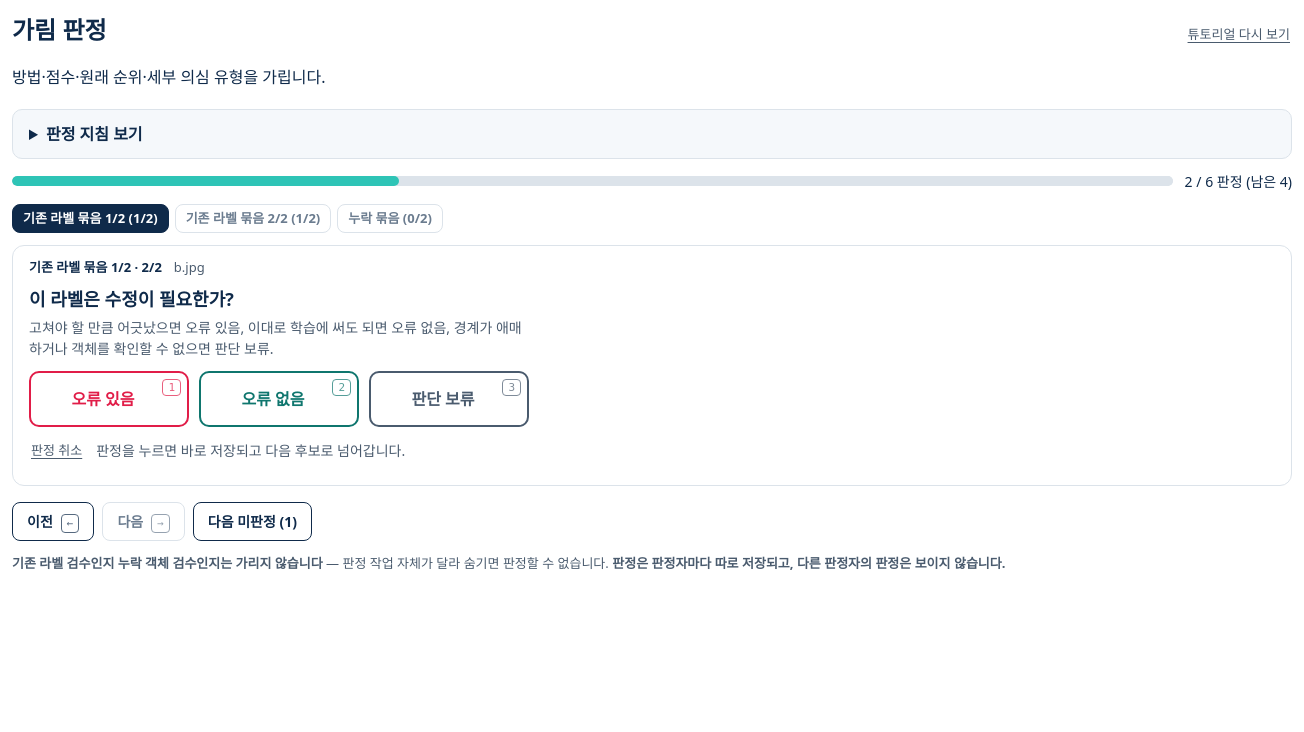
묶음 경계 › 묶음 완료 화면에서 다음 묶음을 시작하면 그 묶음의 첫 미판정으로 간다
The width and height of the screenshot is (1304, 732).
Check: the text "b.jpg" is shown, box [174,258,205,278]
Click the button "판단 보류".
click(449, 398)  # box [369,370,529,426]
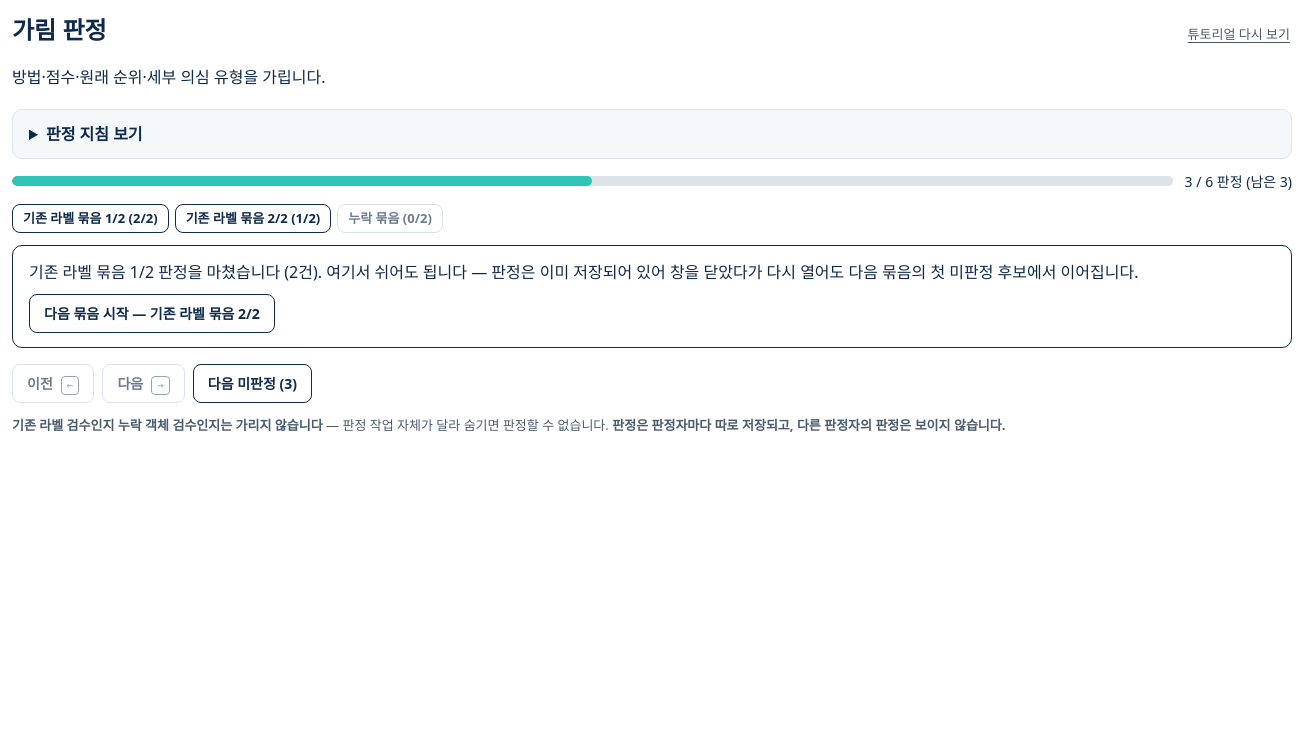
Check: the text "판정을 마쳤습니다" is shown, box [29,261,1138,283]
Click the button "다음 묶음 시작 — 기존 라벨 묶음 2/2".
click(152, 314)  # box [29,294,275,333]
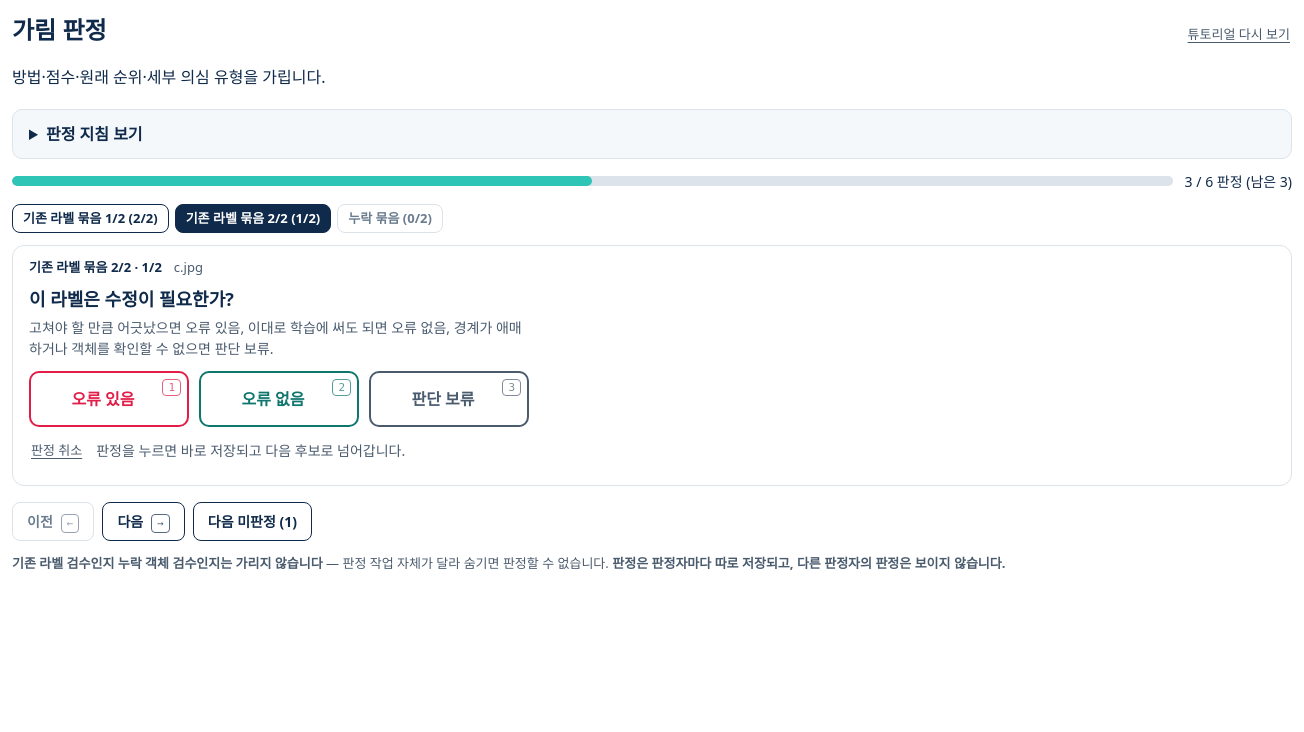
Check: the text "c.jpg" is shown, box [174,258,203,278]
Check: the text with class "judge-position" reads "기존 라벨 묶음 2/2 · 1/2", box [29,258,162,276]
